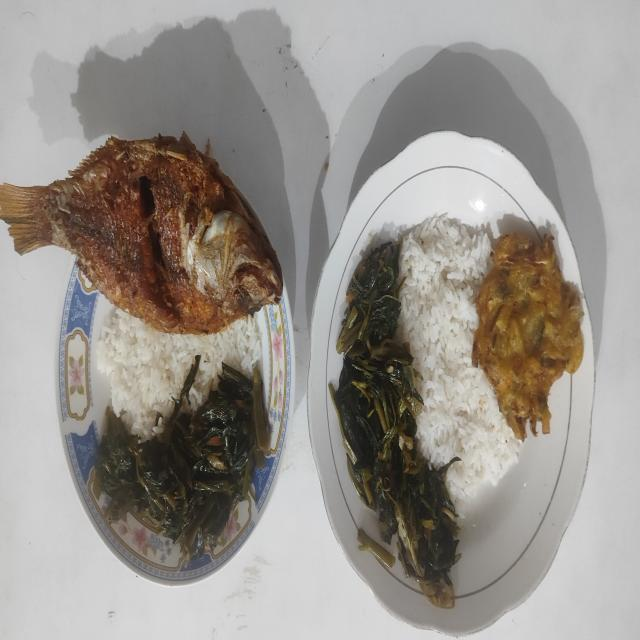ikan_mujair: (0, 133, 283, 334)
nasi_putih: (398, 215, 522, 502), (98, 308, 260, 442)
tumis_kangkung: (329, 242, 461, 608), (80, 363, 266, 567)
